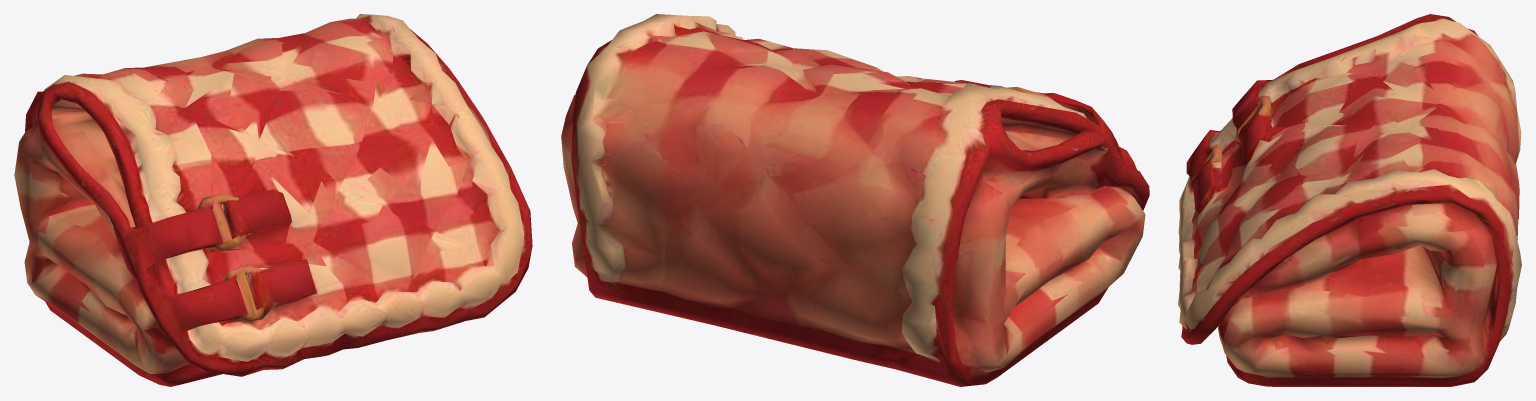
The picture shows the model from 3 angles, left to right: view 1: azimuth 30°, elevation 25°; view 2: azimuth 150°, elevation 25°; view 3: azimuth 270°, elevation 25°; orthographic projection. The views are drawn at different scales.
Visible parts, largest first — view 1: horse-blanket; view 2: horse-blanket; view 3: horse-blanket.
Boxes of the visible parts, x1=… form: horse-blanket: x1=14, y1=14, x2=532, y2=386; horse-blanket: x1=561, y1=14, x2=1149, y2=386; horse-blanket: x1=1178, y1=14, x2=1521, y2=386.
Bounding box in the file's own units: 0.8442 × 0.4924 × 0.6881.
1 material, 1 textured.
